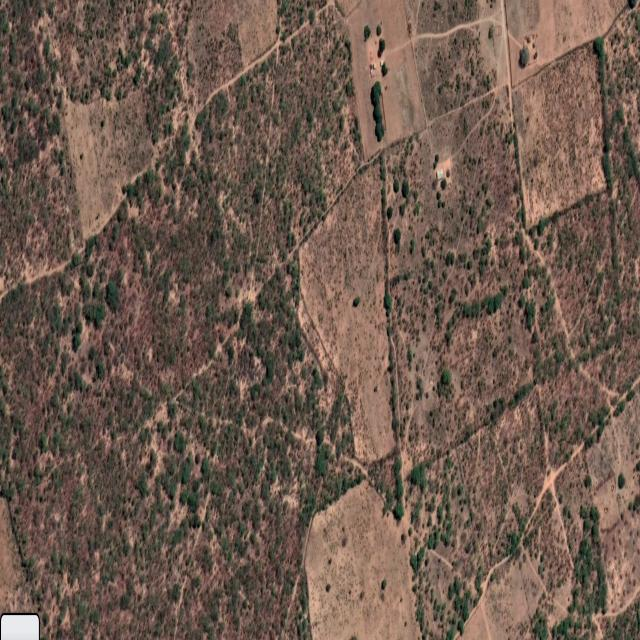boundaries: (376, 149, 405, 449), (203, 32, 284, 119), (0, 255, 76, 302)
